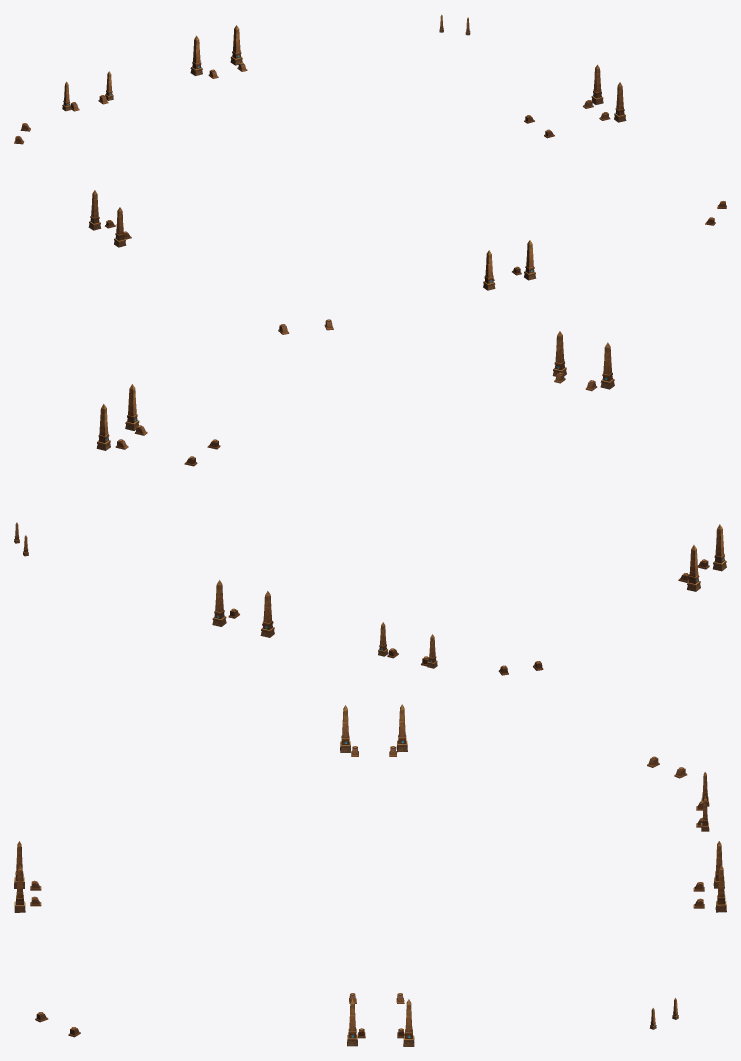
File: fangjianbei.fbx
3 renders of one model, top to bottom at view 1: azimuth 30°, elevation 25°; view 2: azimuth 150°, elevation 25°; view 3: azimuth 270°, elevation 25°, orthographic. The views are drawn at different scales.
Visible parts, largest first — view 1: fangjianbei; view 2: fangjianbei; view 3: fangjianbei.
Boxes of the visible parts, x1=… form: fangjianbei: x1=14, y1=14, x2=726, y2=290; fangjianbei: x1=14, y1=319, x2=726, y2=675; fangjianbei: x1=14, y1=704, x2=726, y2=1046.
Bounding box in the file's own units: 20536 × 1472 × 20650.
